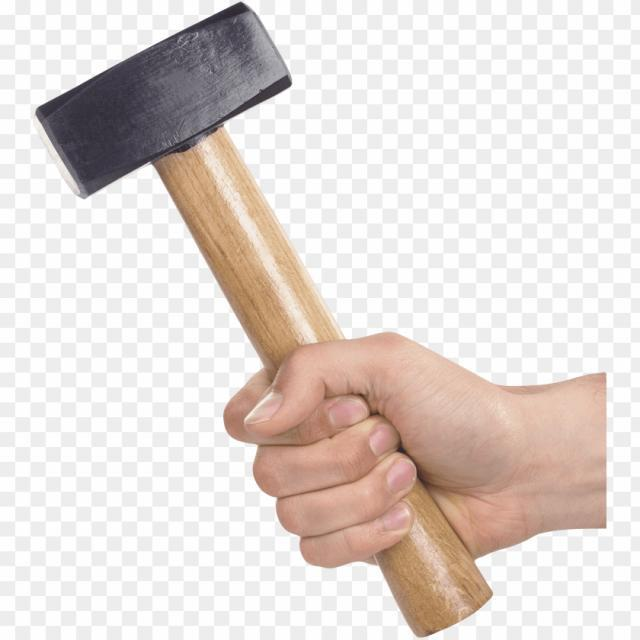hammer: (16, 0, 506, 640)
